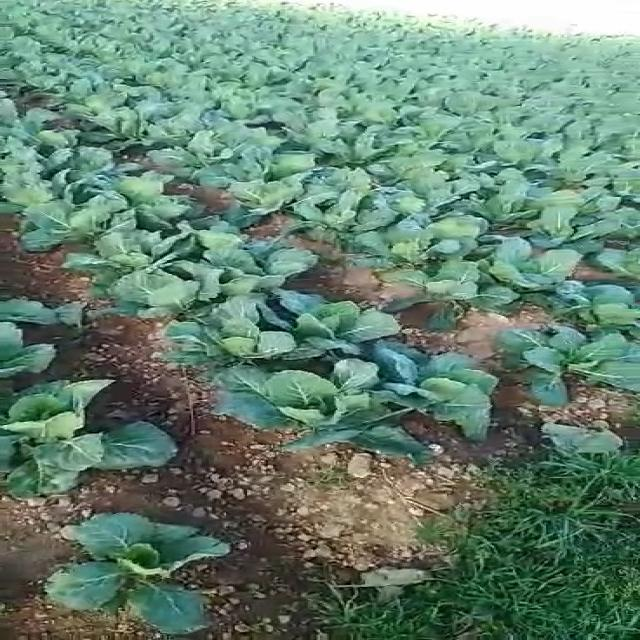Cabbage: (47, 513, 245, 638), (1, 380, 192, 509), (232, 366, 388, 454), (384, 346, 509, 446), (510, 321, 640, 409), (167, 304, 298, 365), (284, 291, 405, 352), (384, 265, 509, 323), (203, 253, 314, 292), (546, 282, 640, 328), (491, 245, 592, 287), (63, 229, 187, 262), (106, 269, 203, 310), (0, 321, 66, 378), (16, 200, 130, 230), (366, 222, 438, 263), (303, 193, 373, 230), (132, 193, 207, 226), (539, 212, 614, 245), (79, 170, 174, 196), (58, 146, 148, 172), (234, 174, 300, 208), (0, 169, 66, 198), (476, 194, 542, 222), (438, 212, 497, 242), (306, 163, 375, 188), (381, 185, 435, 216), (240, 147, 311, 170), (89, 108, 141, 139), (1, 103, 64, 128), (224, 122, 283, 148), (221, 88, 268, 119), (492, 140, 546, 163), (358, 91, 398, 122), (196, 164, 246, 188), (144, 146, 196, 169), (0, 142, 54, 163), (355, 125, 397, 151), (158, 109, 218, 127), (546, 188, 592, 211), (399, 146, 451, 166), (308, 112, 351, 136), (75, 92, 129, 111), (456, 168, 497, 193), (22, 129, 94, 143), (495, 166, 533, 192), (189, 132, 230, 156), (461, 118, 495, 146), (141, 59, 190, 78), (138, 97, 192, 113), (143, 126, 190, 144), (410, 166, 451, 185), (186, 68, 218, 92), (245, 64, 285, 83), (324, 80, 354, 105), (124, 83, 168, 100), (290, 73, 324, 95), (430, 114, 461, 136), (205, 54, 249, 69), (270, 96, 305, 114), (399, 104, 425, 120)
